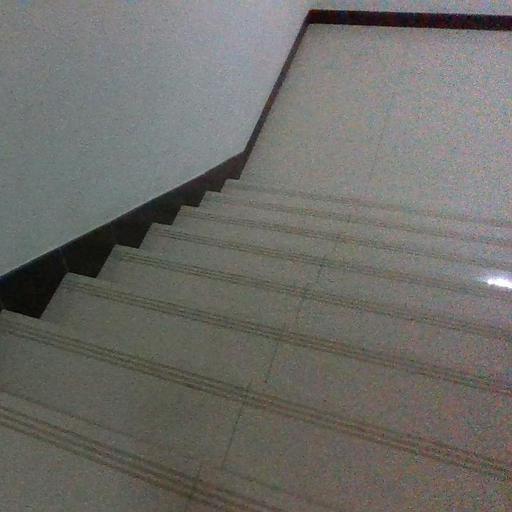Stairs: (2, 140, 512, 512)
